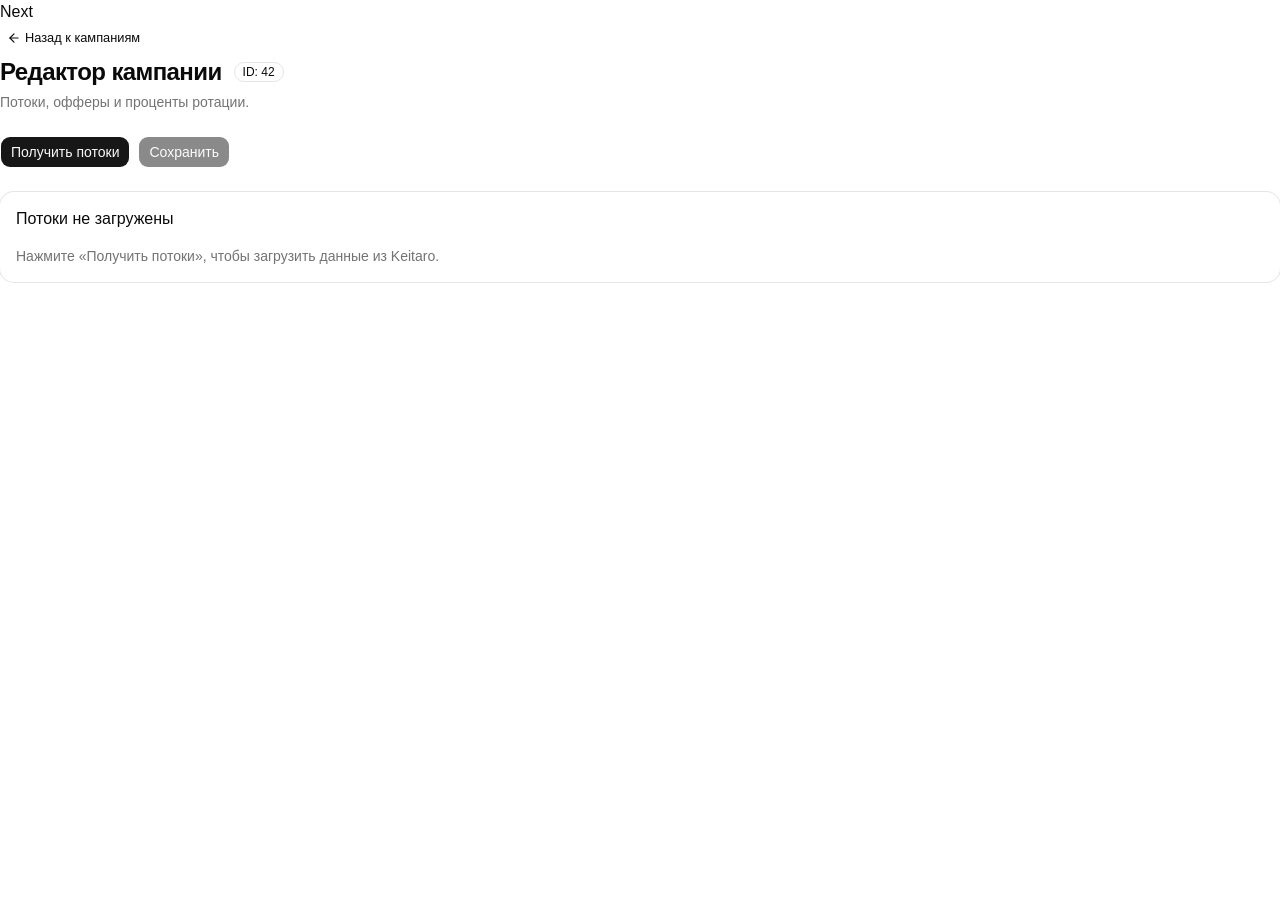
CampaignEditPage › keeps picker search and shows add failures inside the dialog
The image size is (1280, 900).
Click the button "Получить потоки": [65, 152] box [0,136,130,168]
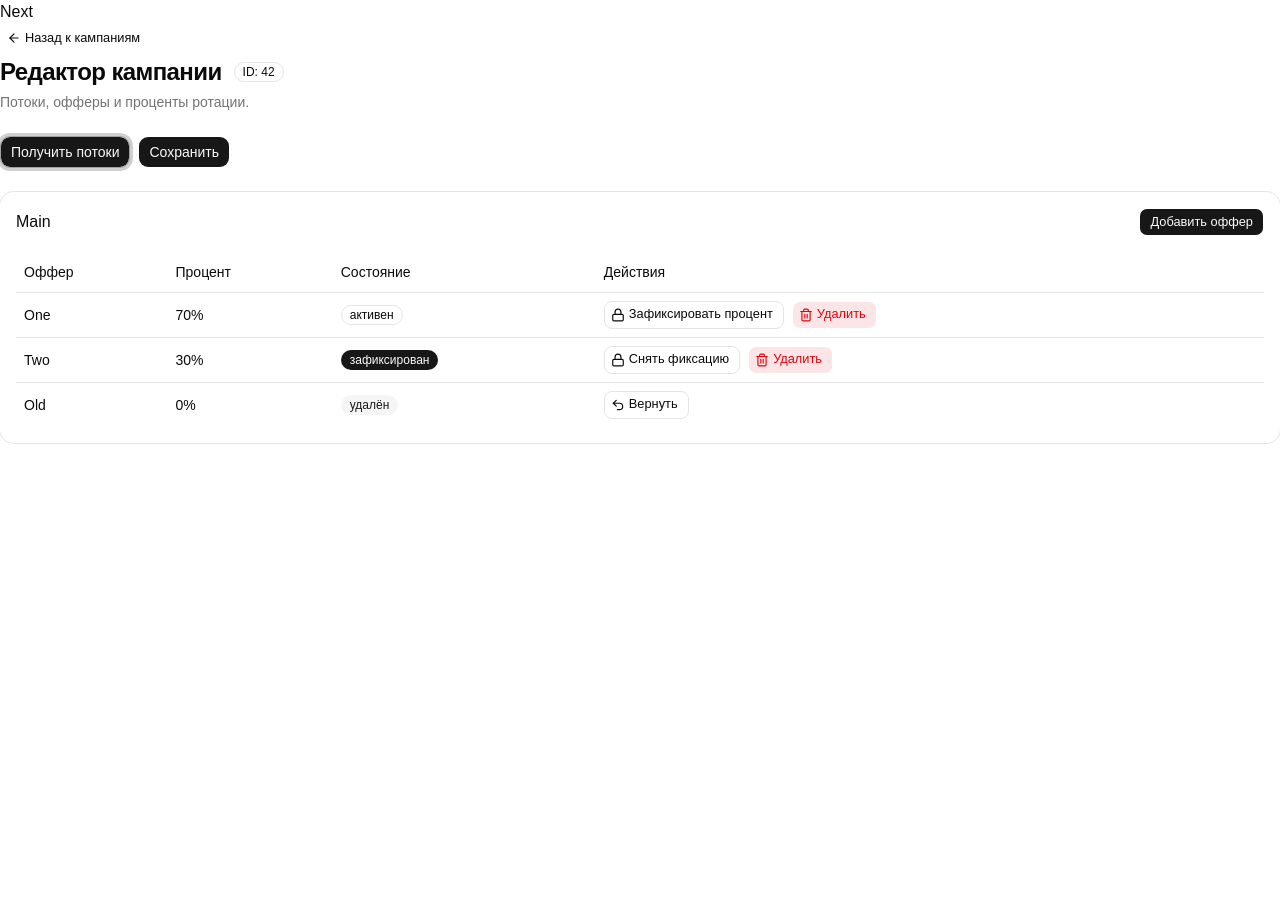
Click the button "Добавить оффер": [1202, 222] box [1140,208,1264,236]
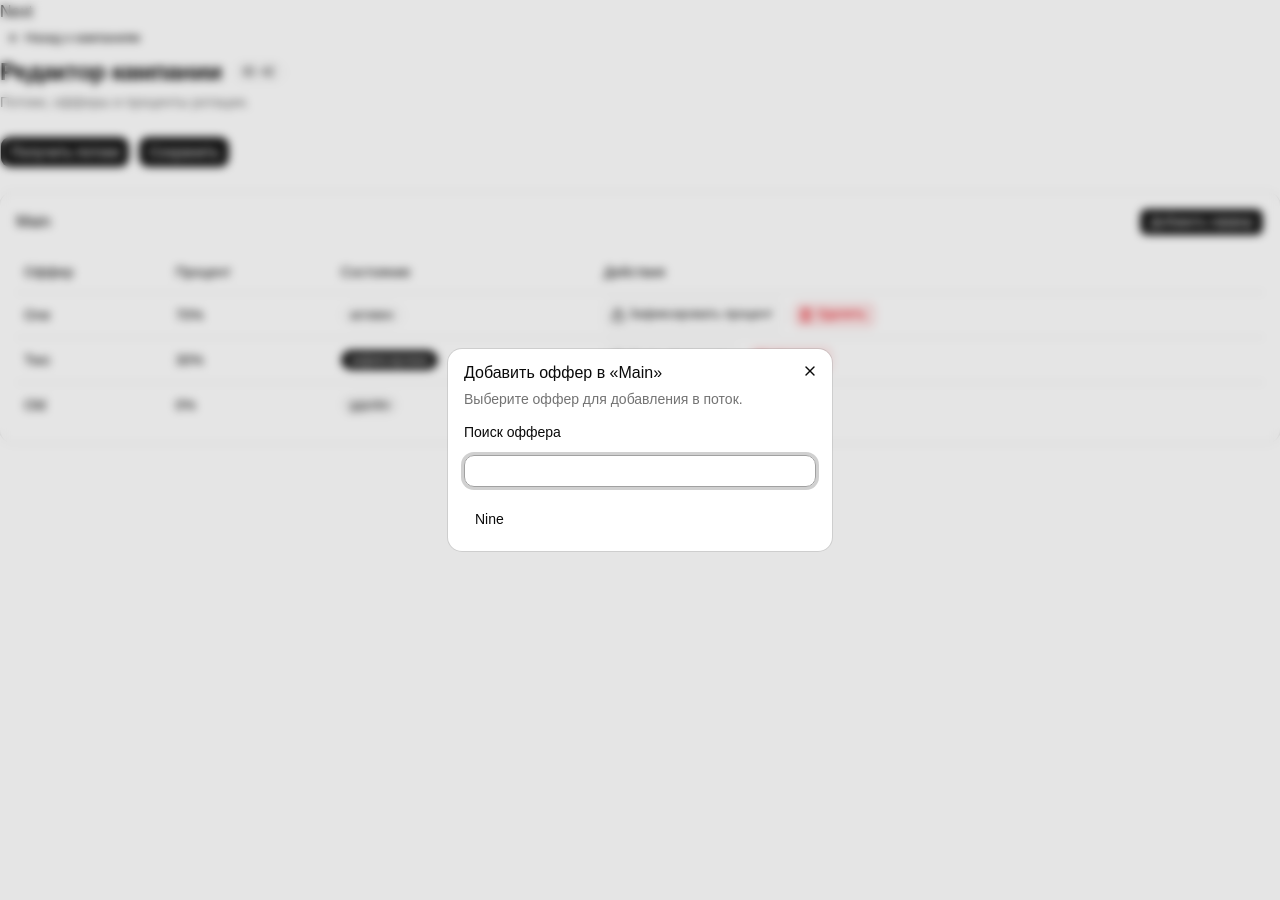
In the field labelled "Поиск оффера": [640, 471] box [464,455,816,487], type "Nine"
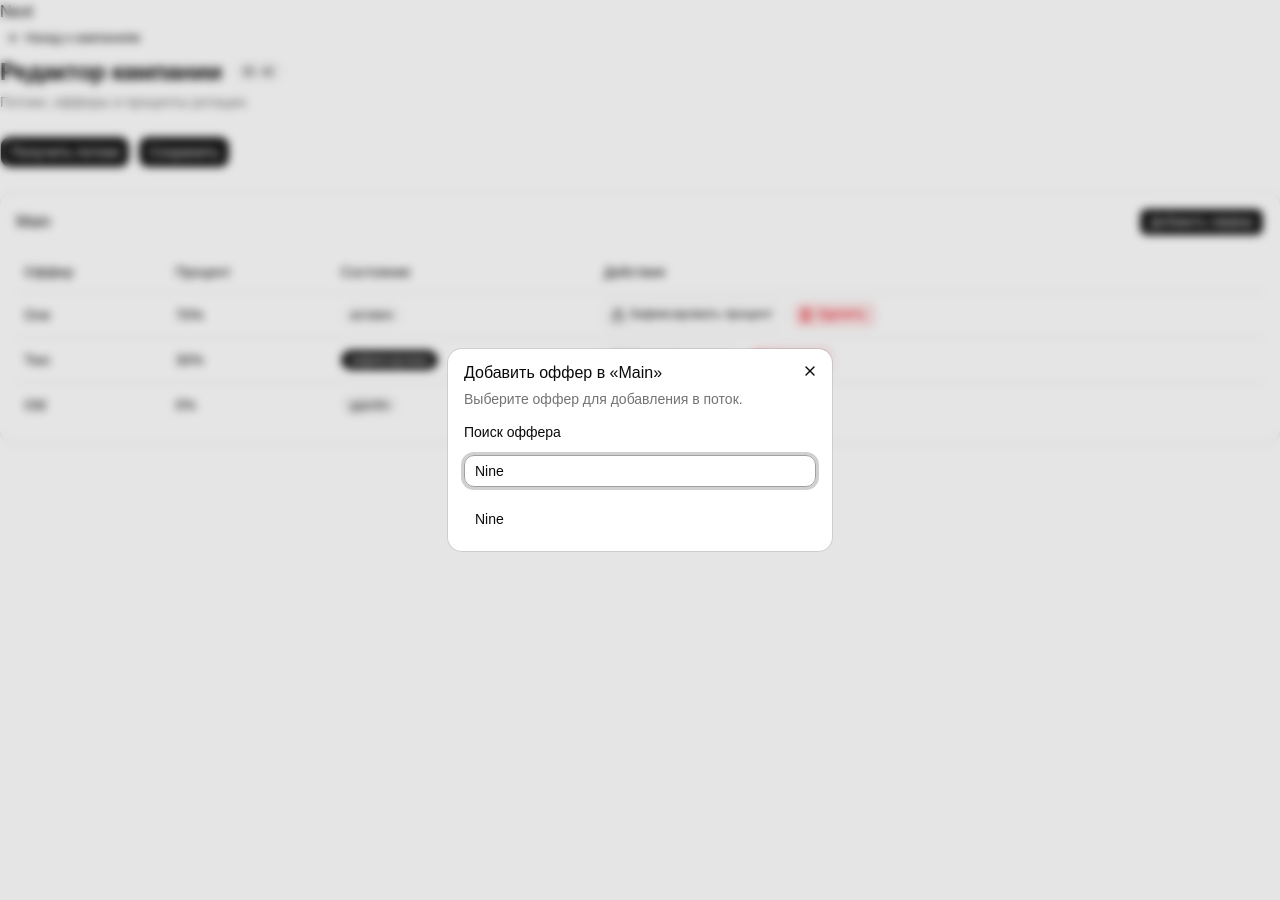
Click the button "Nine": [489, 519] box [464,503,816,535]
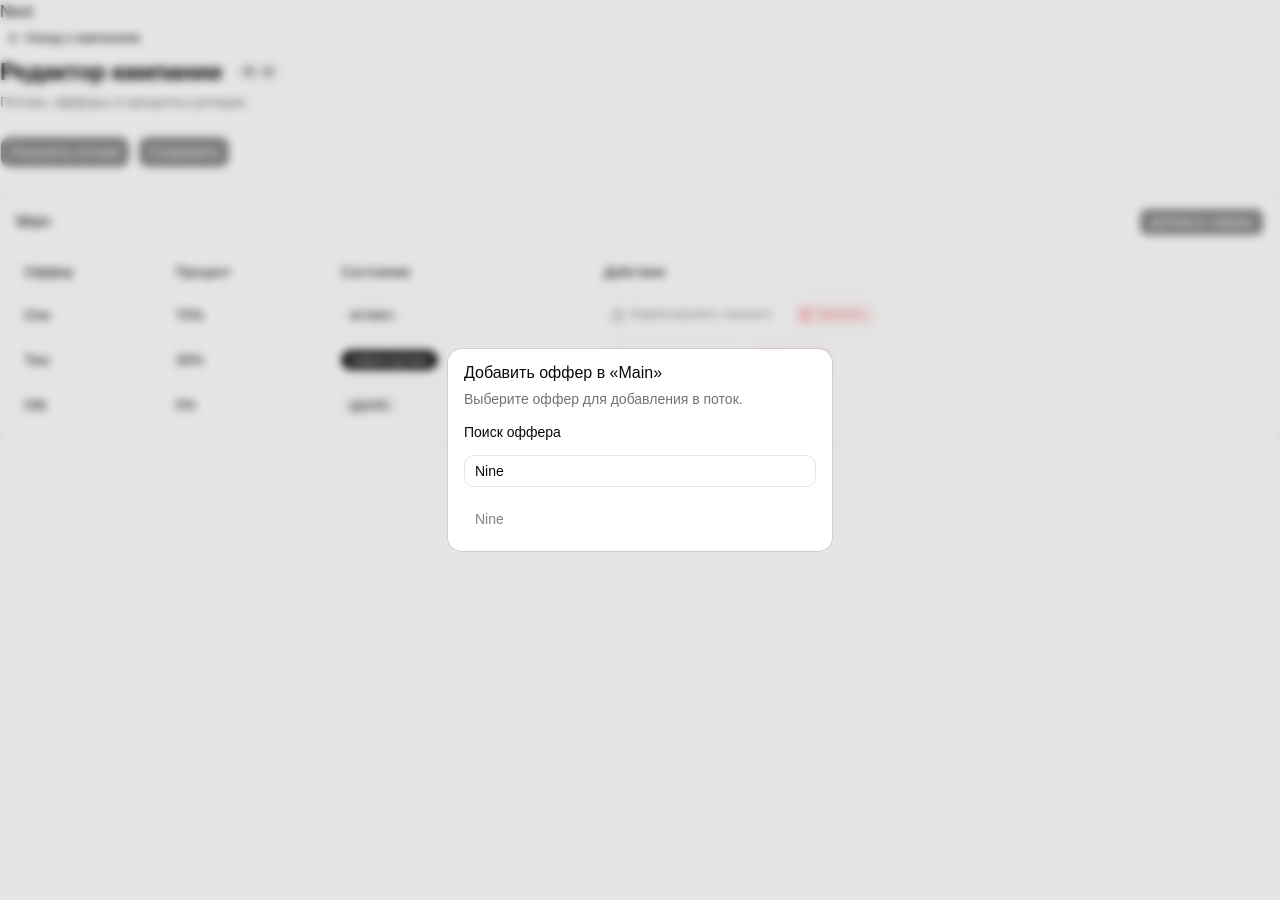
Expected: the button "Nine" is disabled, [464,503,816,535]
Press Escape
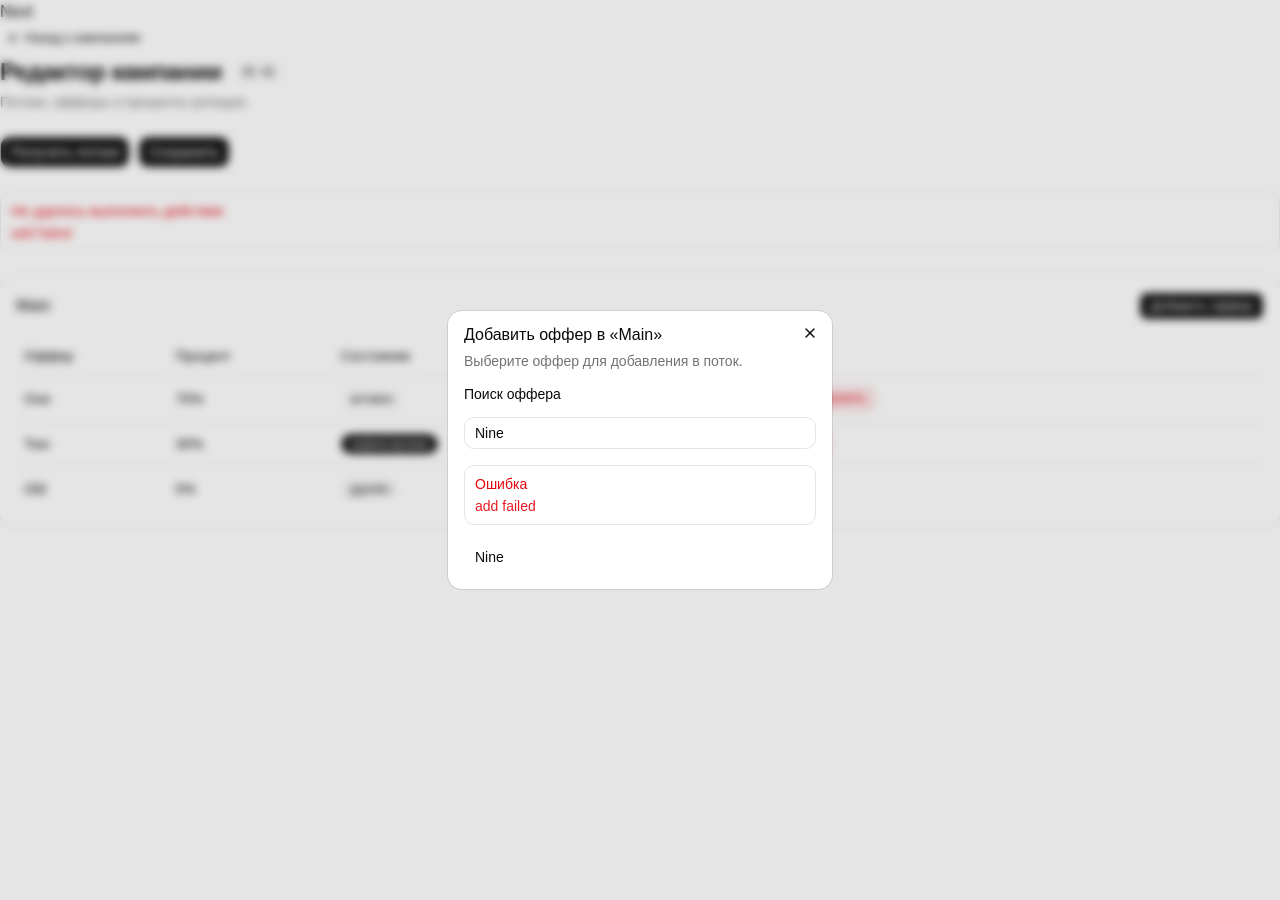
Expected: the dialog is shown, [448,311,832,589]
Expected: the text "add failed" is shown, [475,498,536,514]
Expected: the button "Nine" is enabled, [464,541,816,573]
